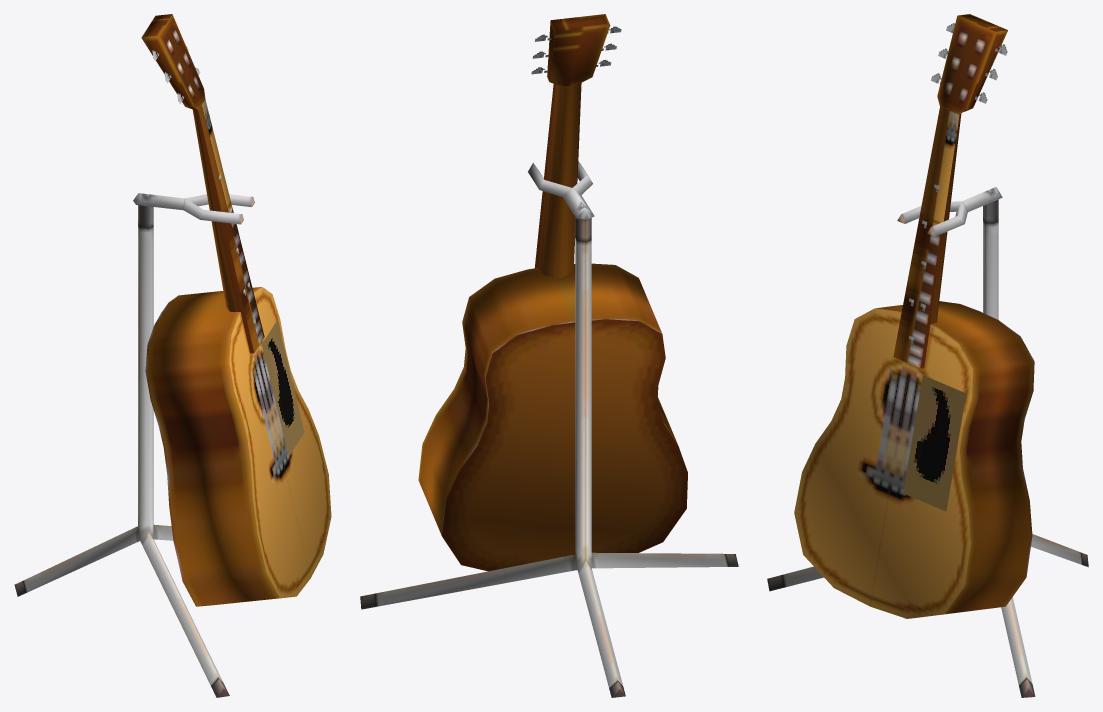
The model's file is int_gtr_Agtr01.dae.
The picture shows the model from 3 angles, left to right: view 1: azimuth 30°, elevation 25°; view 2: azimuth 150°, elevation 25°; view 3: azimuth 270°, elevation 25°; orthographic projection. The views are drawn at different scales.
Parts seen in each view (by area): view 1: int_gtr_Agtr01; view 2: int_gtr_Agtr01; view 3: int_gtr_Agtr01.
Boxes of the visible parts, bbox=[...] form: int_gtr_Agtr01: bbox=[14, 14, 331, 697]; int_gtr_Agtr01: bbox=[360, 14, 738, 697]; int_gtr_Agtr01: bbox=[767, 14, 1088, 697].
Size of the model in its own units: 22.72 by 45.78 by 22.75.
3 materials, 3 textured.
